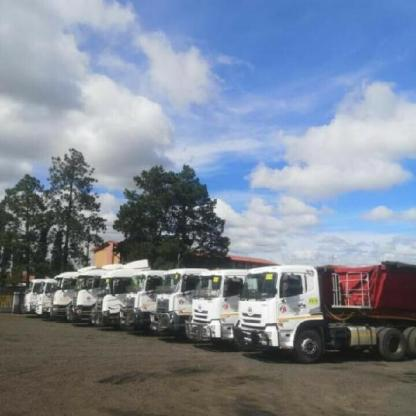dump_truck: (238, 259, 416, 373), (191, 263, 262, 367), (148, 269, 214, 347), (120, 273, 173, 344), (95, 263, 134, 329), (17, 270, 65, 321), (68, 266, 110, 314), (50, 266, 80, 322)
